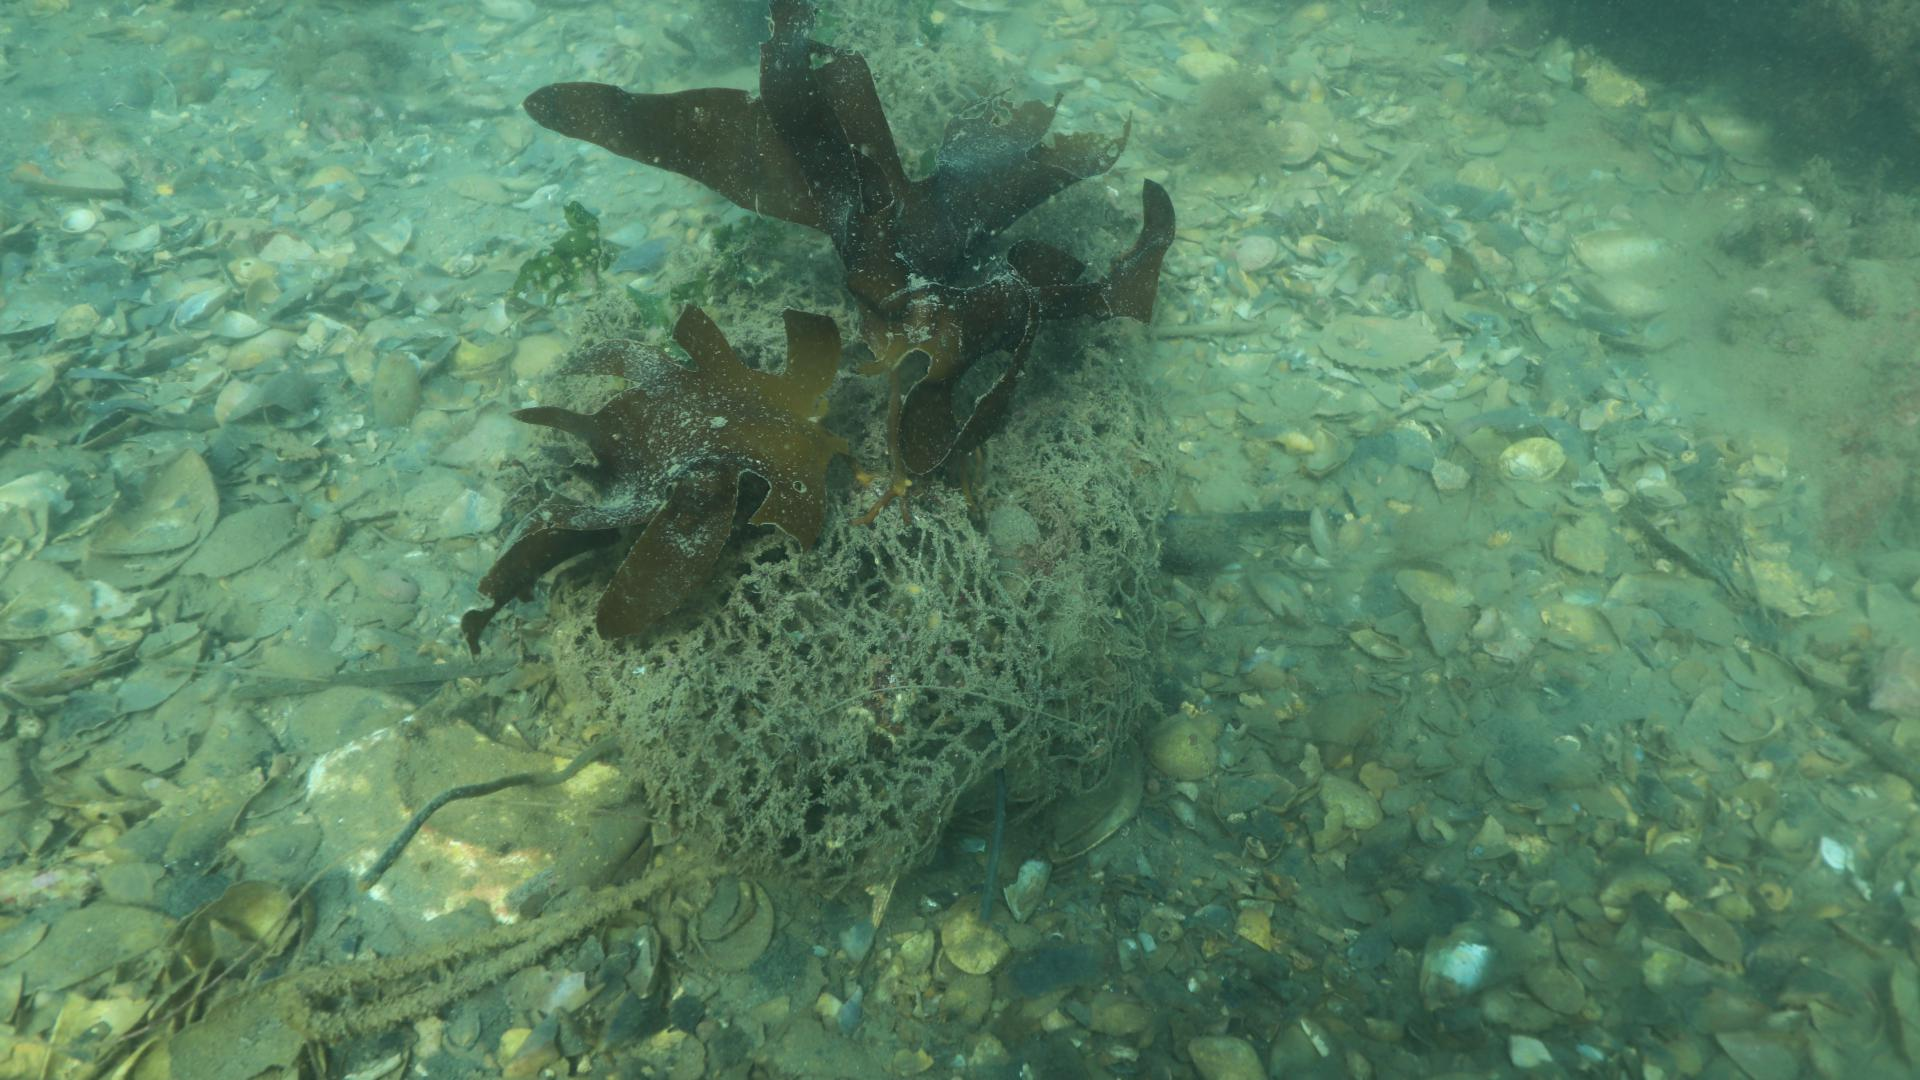fish net: (549, 378, 1171, 887)
